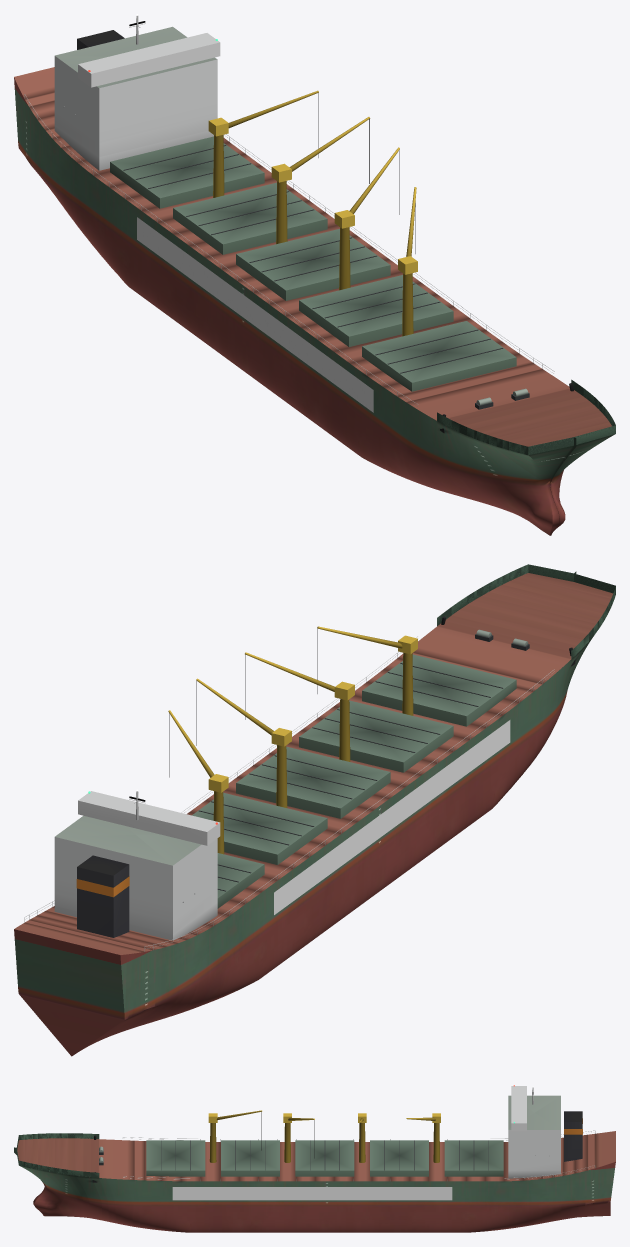
Rendered from frachter.glb.
3 views of the same model, one above another, from view 1: azimuth 30°, elevation 25°; view 2: azimuth 150°, elevation 25°; view 3: azimuth 270°, elevation 25° (orthographic). The views are drawn at different scales.
Visible parts, largest first — view 1: trim, rumpf, rund, name-1; view 2: trim, rumpf, rund, name-1; view 3: trim, rumpf, name1, rund.
Boxes of the visible parts, bbox=[...] form: trim: bbox=[14, 26, 615, 455]; rumpf: bbox=[14, 77, 614, 535]; rund: bbox=[24, 15, 573, 416]; name-1: bbox=[137, 217, 373, 412]; trim: bbox=[14, 564, 615, 954]; rumpf: bbox=[14, 635, 594, 1056]; rund: bbox=[24, 616, 572, 951]; name-1: bbox=[274, 720, 510, 914]; trim: bbox=[14, 1086, 615, 1182]; rumpf: bbox=[14, 1152, 615, 1232]; name1: bbox=[172, 1187, 452, 1200]; rund: bbox=[94, 1087, 595, 1180].
Bounding box in the file's own units: 34.14 × 46.03 × 194.
7 materials, 1 textured.
